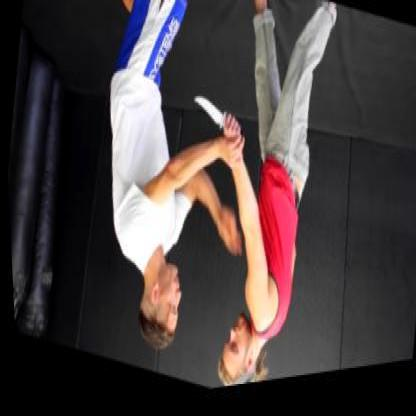knife: (186, 86, 246, 150)
